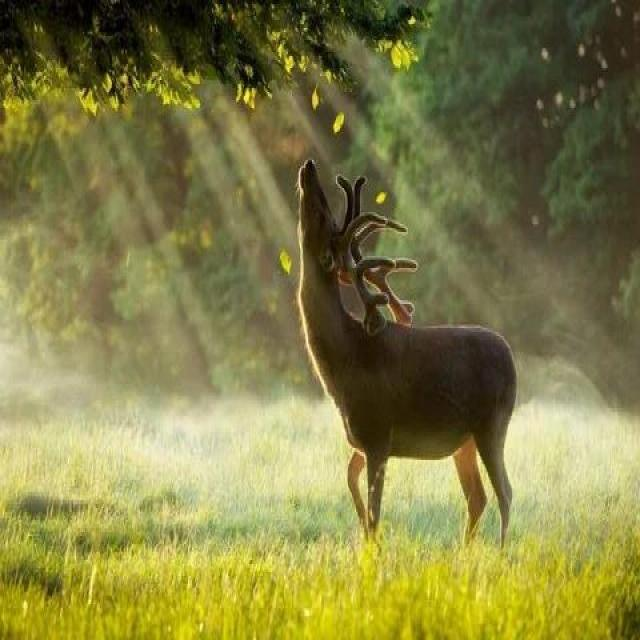deer: (218, 145, 564, 539)
